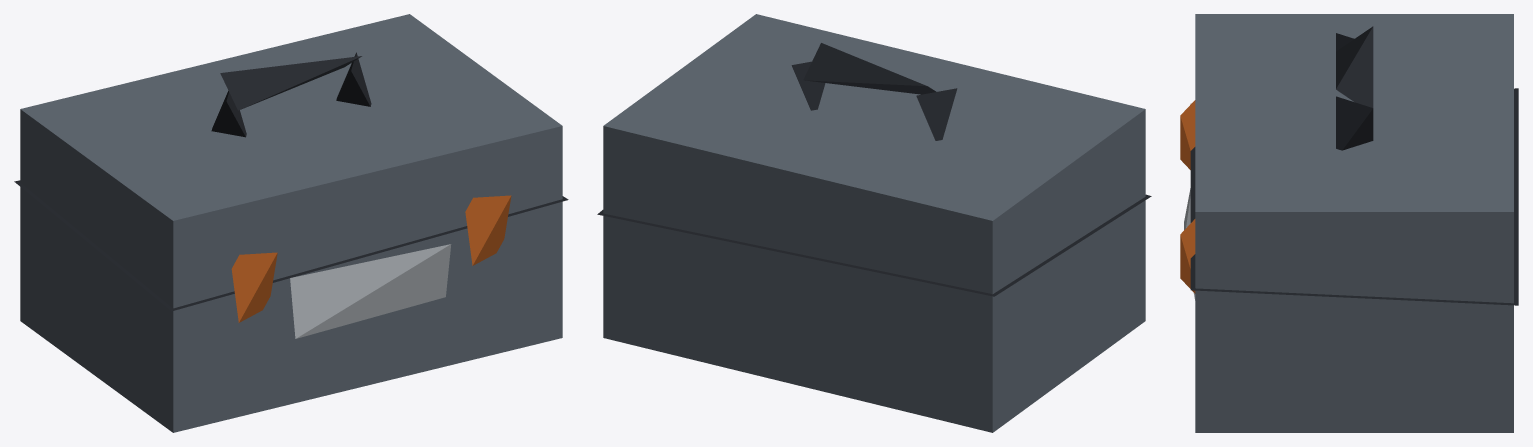
File: kit-case.lod.glb
The picture shows the model from 3 angles, left to right: view 1: azimuth 30°, elevation 25°; view 2: azimuth 150°, elevation 25°; view 3: azimuth 270°, elevation 25°; orthographic projection. The views are drawn at different scales.
Visible parts, largest first — view 1: kit-case; view 2: kit-case; view 3: kit-case.
Boxes of the visible parts, x1,y1,x2,y2 form: kit-case: [14, 14, 568, 432]; kit-case: [597, 14, 1151, 432]; kit-case: [1180, 14, 1518, 432].
Bounding box in the file's own units: 0.51 × 0.325 × 0.361.
